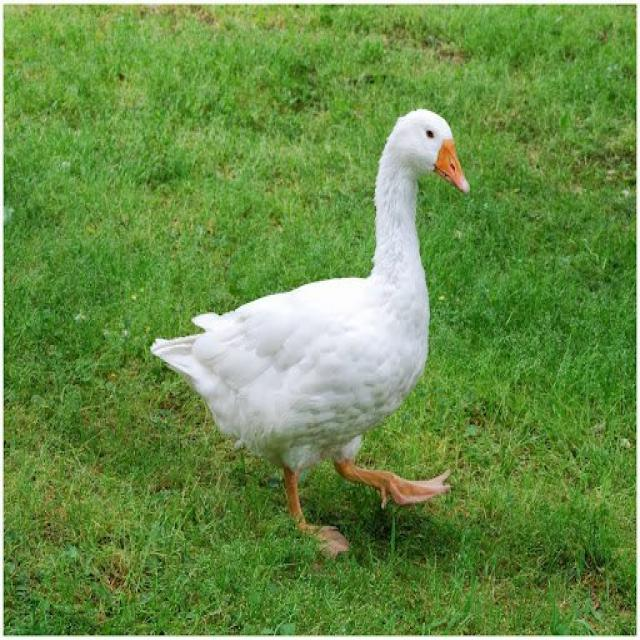Goose: (151, 111, 473, 554)
